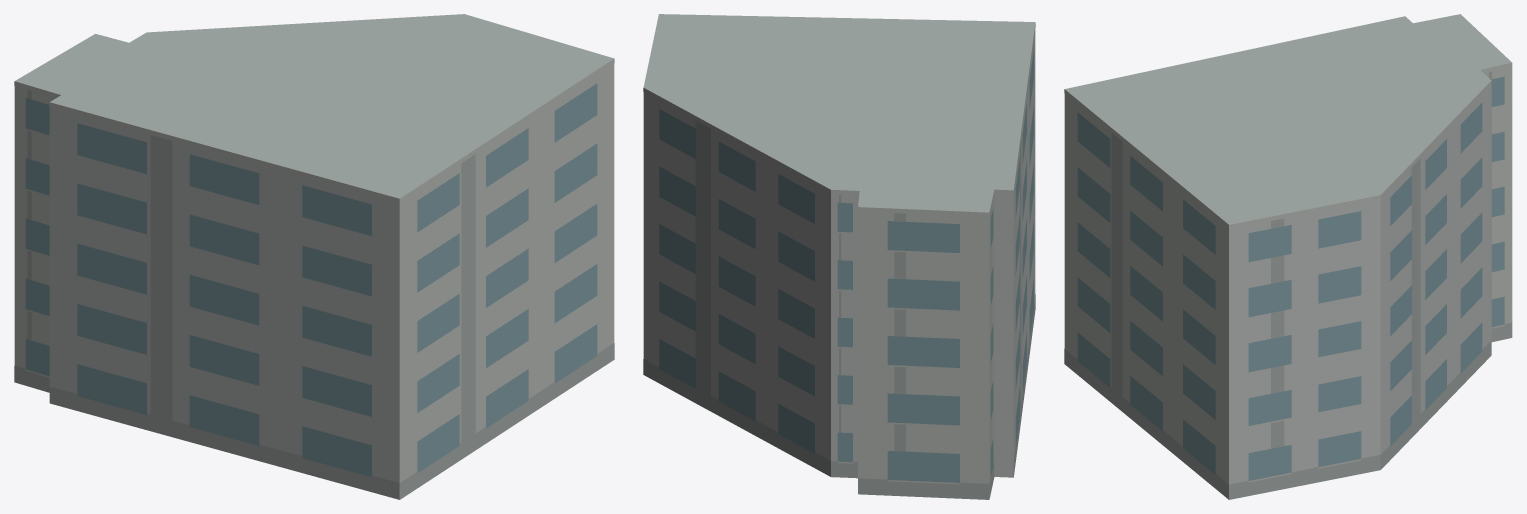
File: survey-upis-32975691.glb
3 views of the same model, side by side, from view 1: azimuth 30°, elevation 25°; view 2: azimuth 150°, elevation 25°; view 3: azimuth 270°, elevation 25° (orthographic). The views are drawn at different scales.
Visible parts, largest first — view 1: survey-upis-32975691.tmp; view 2: survey-upis-32975691.tmp; view 3: survey-upis-32975691.tmp.
Boxes of the visible parts, <box> form: survey-upis-32975691.tmp: <box>14,14,614,499</box>; survey-upis-32975691.tmp: <box>643,14,1035,499</box>; survey-upis-32975691.tmp: <box>1064,14,1512,499</box>.
Size of the model in its own units: 25.08 by 15.25 by 22.51.
